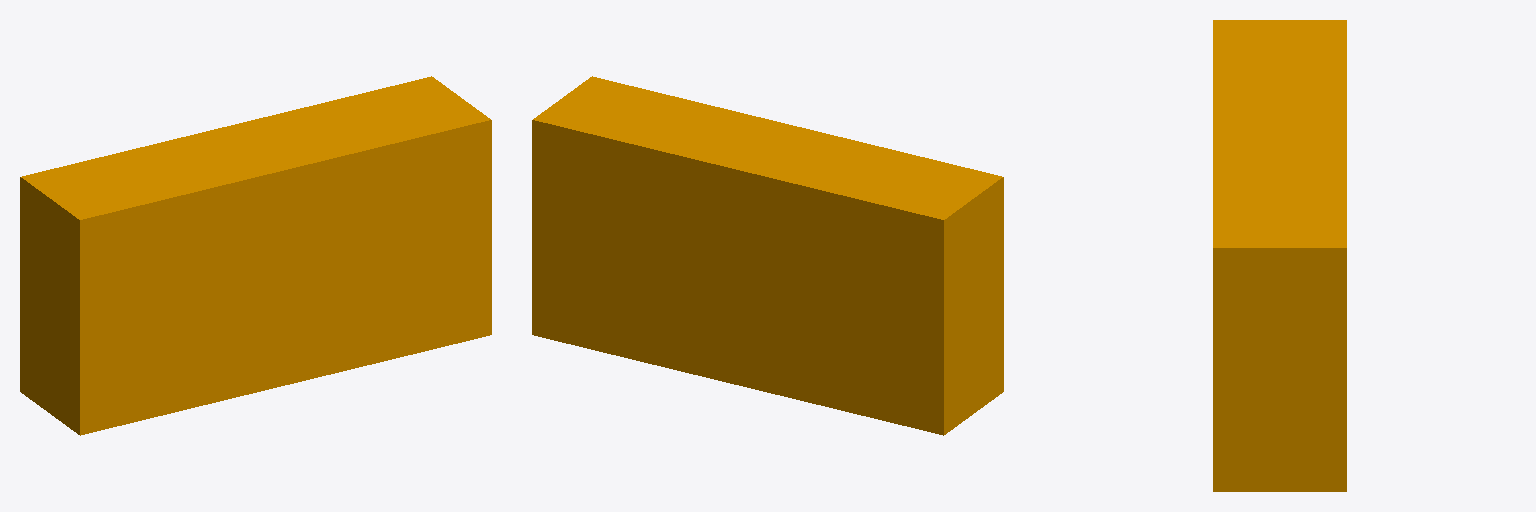
The robot description file, URDF, robot "FallingBrick":
<?xml version="1.0"?>
<robot xmlns="https://drake.mit.edu" xmlns:xsi="http://www.w3.org/2001/XMLSchema-instance" name="FallingBrick">
  <link name="brick">
    <inertial>
      <mass value="1"/>
      <inertia ixx="1" ixy="0" ixz="0" iyy="2" iyz="0" izz="2"/>
    </inertial>
    <visual>
      <geometry>
        <box size="2 .5 1"/>
      </geometry>
    </visual>
    <collision>
      <geometry>
        <box size="2 .5 1"/>
      </geometry>
    </collision>
  </link>
</robot>

--- What the picture shows (computed from the rendered views, not written in the file) ---
3 views of the same robot in one strip: view 1: azimuth 30°, elevation 25°; view 2: azimuth 150°, elevation 25°; view 3: azimuth 270°, elevation 25° (orthographic).
Model FallingBrick with 1 links and 0 joints (none), rooted at brick, posed all joints at 0.
Links seen in each view (by area): view 1: brick; view 2: brick; view 3: brick.
Boxes of the visible links, left/top/right/bottom form: brick: left=20, top=76, right=491, bottom=435; brick: left=532, top=76, right=1003, bottom=435; brick: left=1213, top=20, right=1346, bottom=491.
Size in the robot's own frame: 2 by 0.5 by 1 metres.
Geometry: primitives only (box / cylinder / sphere), no mesh files.